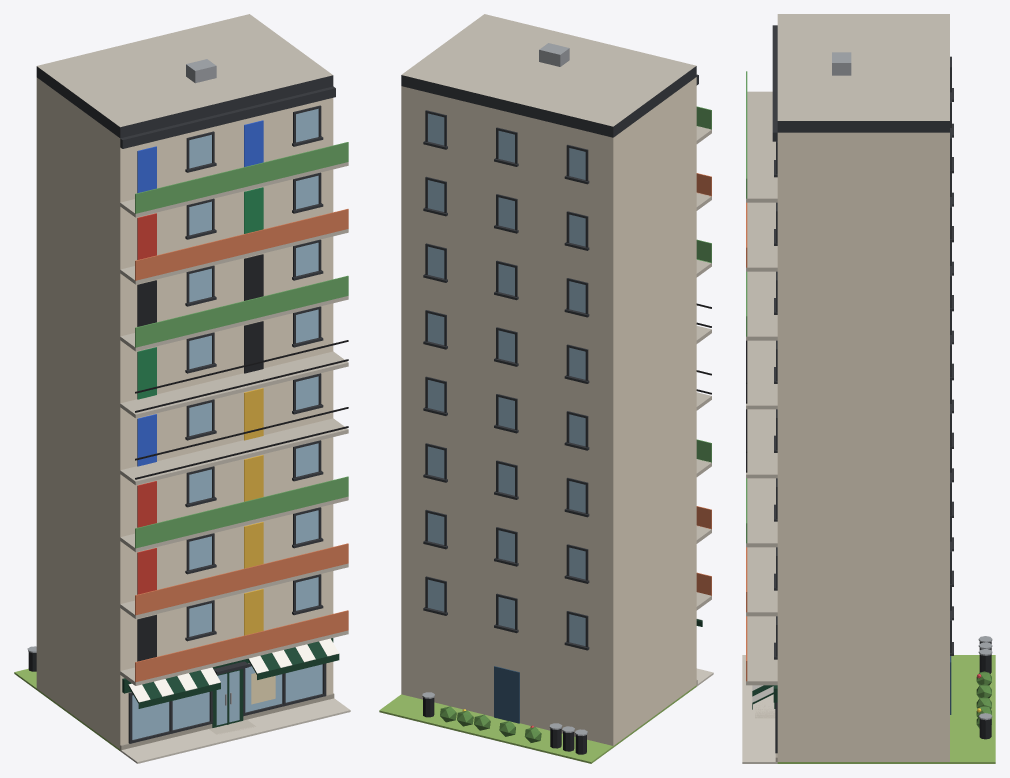
File: Blok_duz_9k_5_Hafif.fbx
3 renders of one model, left to right at view 1: azimuth 30°, elevation 25°; view 2: azimuth 150°, elevation 25°; view 3: azimuth 270°, elevation 25°, orthographic. The views are drawn at different scales.
Parts seen in each view (by area): view 1: Blok_duz_9k_5_Hafif; view 2: Blok_duz_9k_5_Hafif; view 3: Blok_duz_9k_5_Hafif.
Part boxes in pixels (box(x1,y1,x2,y2)): Blok_duz_9k_5_Hafif: box(14, 14, 350, 763); Blok_duz_9k_5_Hafif: box(379, 14, 713, 763); Blok_duz_9k_5_Hafif: box(742, 14, 995, 763).
Size of the model in its own units: 10 by 28.57 by 10.
